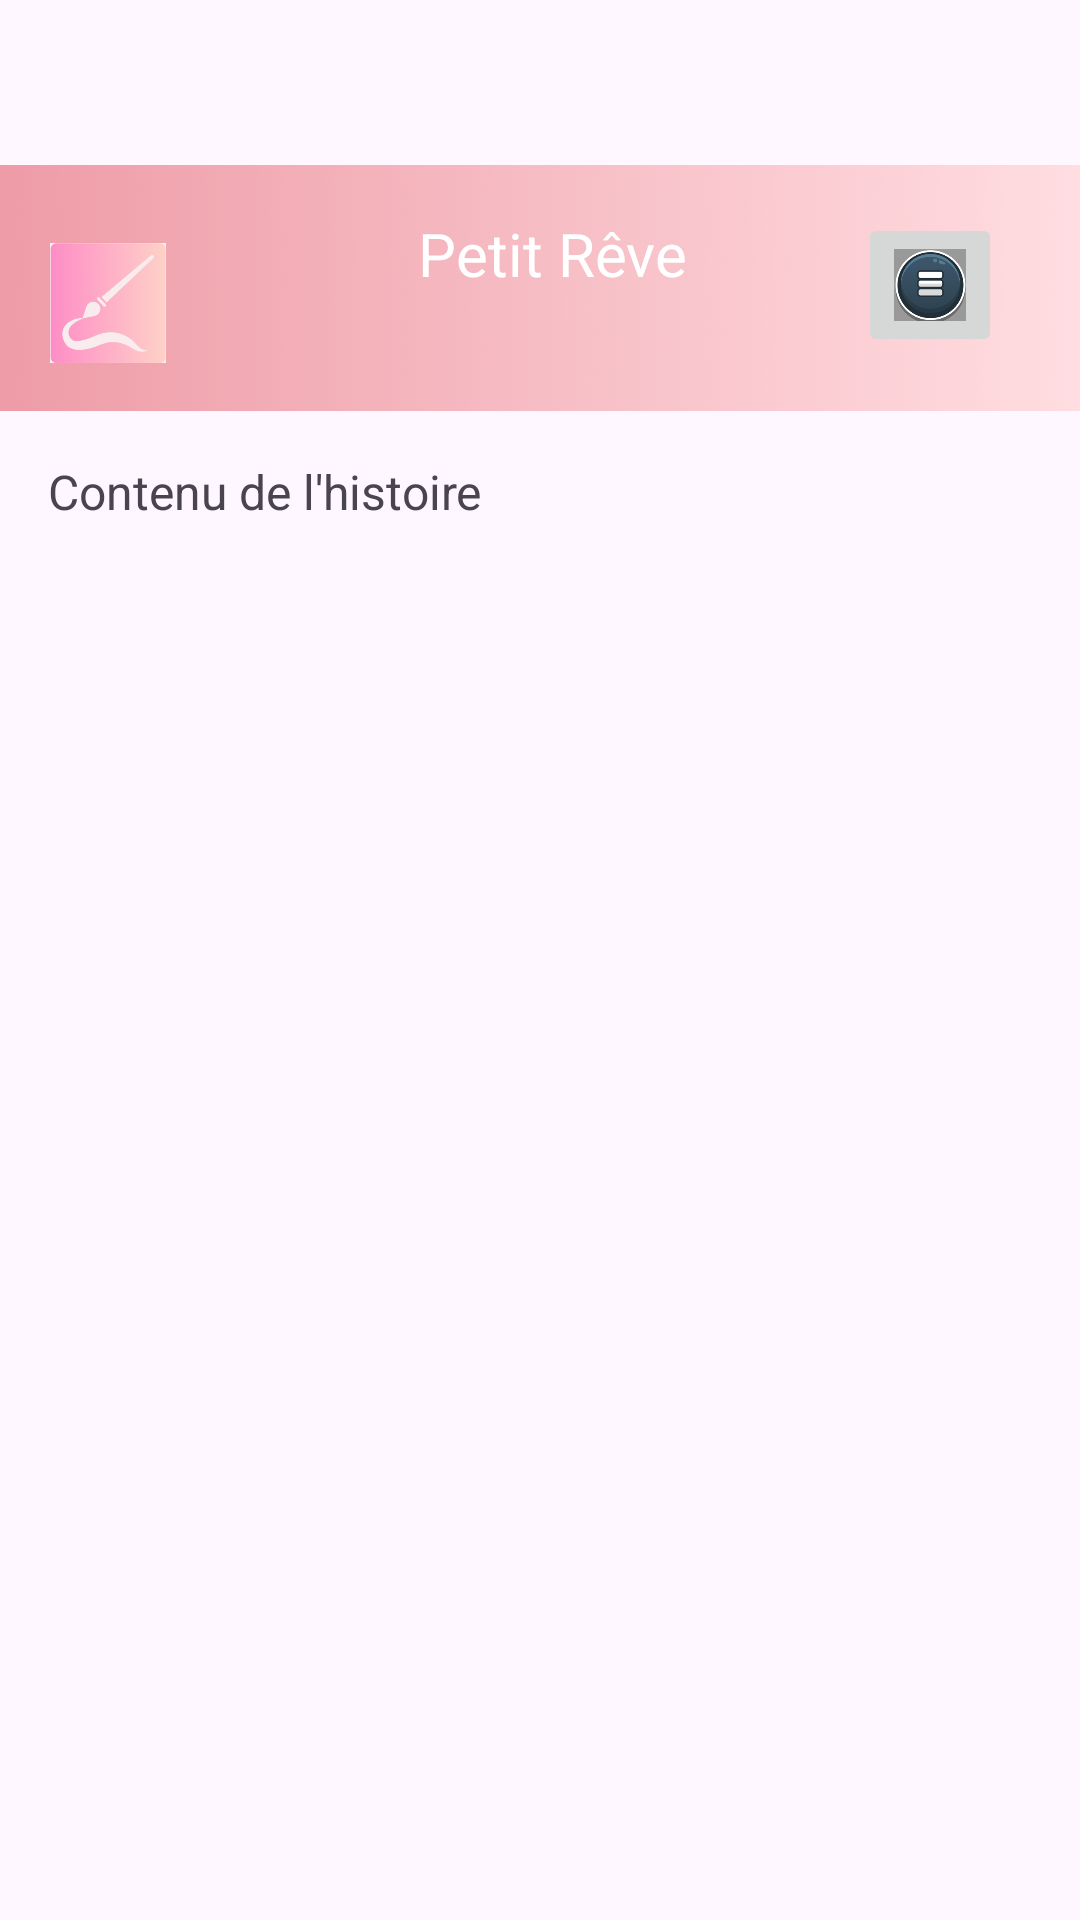

Screen size 1080x1920. Icon name, then its box in pixels as (x1, y1, x2, y2):
Menu Button: (870, 231, 990, 339)
